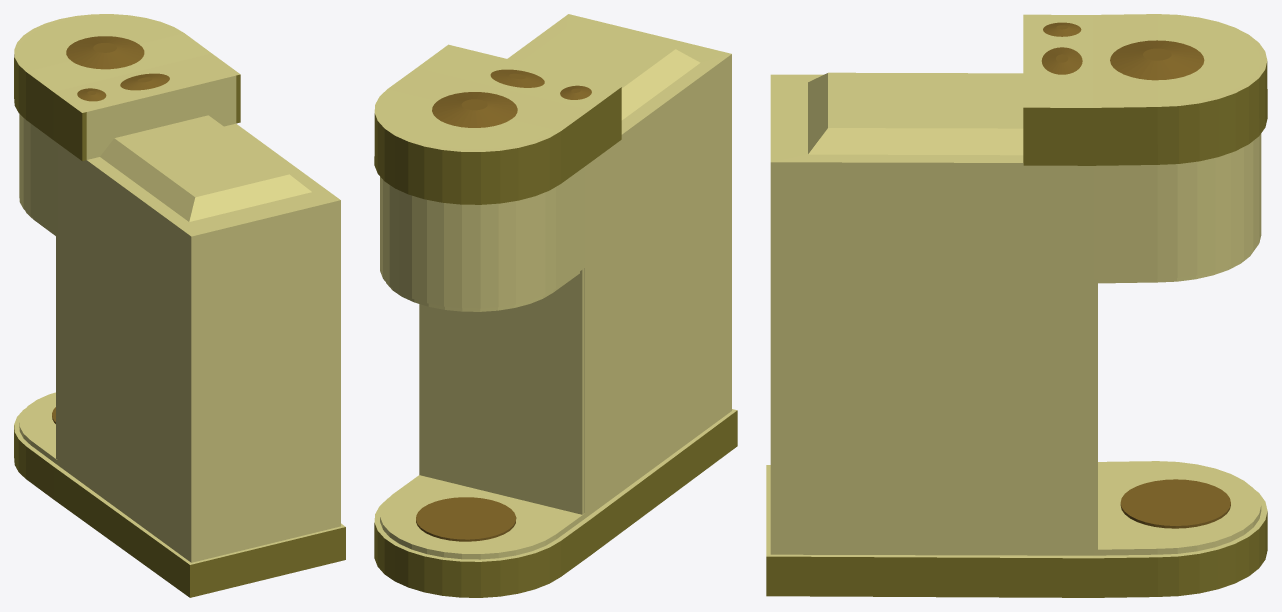
File: CoffeeMaker.fbx
The picture shows the model from 3 angles, left to right: view 1: azimuth 30°, elevation 25°; view 2: azimuth 150°, elevation 25°; view 3: azimuth 270°, elevation 25°; orthographic projection. The views are drawn at different scales.
Parts seen in each view (by area): view 1: CoffeeMaker; view 2: CoffeeMaker; view 3: CoffeeMaker.
Boxes of the visible parts, <box> form: CoffeeMaker: <box>14,14,345,597</box>; CoffeeMaker: <box>374,14,737,597</box>; CoffeeMaker: <box>766,14,1267,597</box>.
Bounding box in the file's own units: 213 × 528 × 483.
